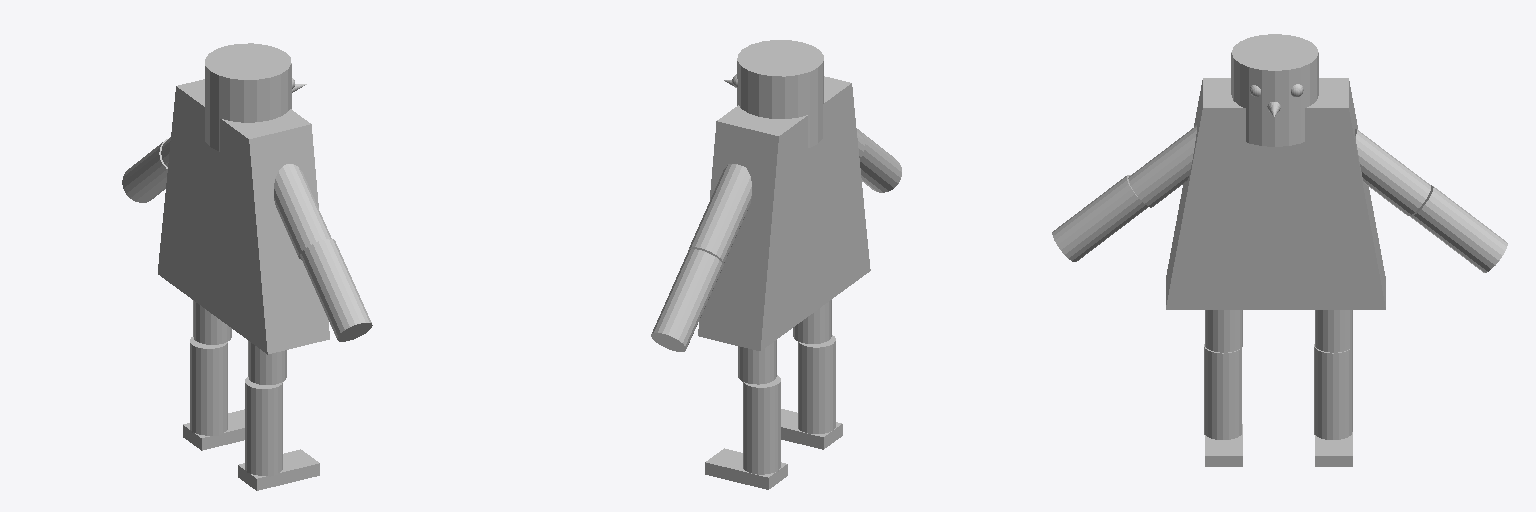
The model's file is HumanBase.obj.
The picture shows the model from 3 angles: view 1: azimuth 30°, elevation 25°; view 2: azimuth 150°, elevation 25°; view 3: azimuth 270°, elevation 25°; orthographic projection.
Parts seen in each view (by area): view 1: pCube1, pCylinder2, pasted__pCylinder1 group1, group2 pasted__pasted__pCylinder1 pasted__group1, group3 pasted__pasted__pCylinder1 pasted__group1, pCylinder1, group4 pasted__pasted__pCylinder1 pasted__group1, group2 pasted__pasted__pCube1 pasted__group, pasted__pCylinder1 group2, pasted__pCube1 group, pasted__pCylinder1 group3; view 2: pCube1, pCylinder2, group4 pasted__pasted__pCylinder1 pasted__group1, group3 pasted__pasted__pCylinder1 pasted__group1, group2 pasted__pasted__pCylinder1 pasted__group1, pasted__pCylinder1 group4, pasted__pCube1 group, pasted__pCylinder1 group1, pasted__pCylinder1 group3, group2 pasted__pasted__pCube1 pasted__group, pasted__pCylinder1 group2; view 3: pCube1, pCylinder2, group4 pasted__pasted__pCylinder1 pasted__group1, pasted__pCylinder1 group1, group3 pasted__pasted__pCylinder1 pasted__group1, group2 pasted__pasted__pCylinder1 pasted__group1, pasted__pCylinder1 group4, pCylinder1, pasted__pCylinder1 group2, pasted__pCylinder1 group3, group2 pasted__pasted__pCube1 pasted__group, pasted__pCube1 group.
Boxes of the visible parts, <box> form: pCube1: <box>158,79,329,354</box>; pCylinder2: <box>205,43,291,151</box>; pasted__pCylinder1 group1: <box>300,239,372,341</box>; group2 pasted__pasted__pCylinder1 pasted__group1: <box>245,377,282,476</box>; group3 pasted__pasted__pCylinder1 pasted__group1: <box>190,337,227,435</box>; pCylinder1: <box>274,164,331,259</box>; group4 pasted__pasted__pCylinder1 pasted__group1: <box>122,139,167,202</box>; group2 pasted__pasted__pCube1 pasted__group: <box>238,449,319,490</box>; pasted__pCylinder1 group2: <box>248,341,286,384</box>; pasted__pCube1 group: <box>183,409,244,450</box>; pasted__pCylinder1 group3: <box>193,300,231,344</box>; pCube1: <box>698,76,870,351</box>; pCylinder2: <box>737,40,823,147</box>; group4 pasted__pasted__pCylinder1 pasted__group1: <box>651,249,723,351</box>; group3 pasted__pasted__pCylinder1 pasted__group1: <box>743,375,780,474</box>; group2 pasted__pasted__pCylinder1 pasted__group1: <box>798,335,835,433</box>; pasted__pCylinder1 group4: <box>689,164,751,264</box>; pasted__pCube1 group: <box>705,448,787,489</box>; pasted__pCylinder1 group1: <box>857,129,901,192</box>; pasted__pCylinder1 group3: <box>738,340,776,384</box>; group2 pasted__pasted__pCube1 pasted__group: <box>781,409,842,449</box>; pasted__pCylinder1 group2: <box>793,300,831,343</box>; pCube1: <box>1166,78,1385,309</box>; pCylinder2: <box>1231,34,1318,146</box>; group4 pasted__pasted__pCylinder1 pasted__group1: <box>1410,185,1507,272</box>; pasted__pCylinder1 group1: <box>1052,175,1147,261</box>; group3 pasted__pasted__pCylinder1 pasted__group1: <box>1314,344,1352,439</box>; group2 pasted__pasted__pCylinder1 pasted__group1: <box>1204,344,1241,439</box>; pasted__pCylinder1 group4: <box>1355,129,1430,215</box>; pCylinder1: <box>1128,125,1196,207</box>; pasted__pCylinder1 group2: <box>1205,310,1242,352</box>; pasted__pCylinder1 group3: <box>1315,310,1352,352</box>; group2 pasted__pasted__pCube1 pasted__group: <box>1205,424,1242,466</box>; pasted__pCube1 group: <box>1315,432,1352,466</box>.
Size of the model in its own units: 3.03 by 11.97 by 12.45.